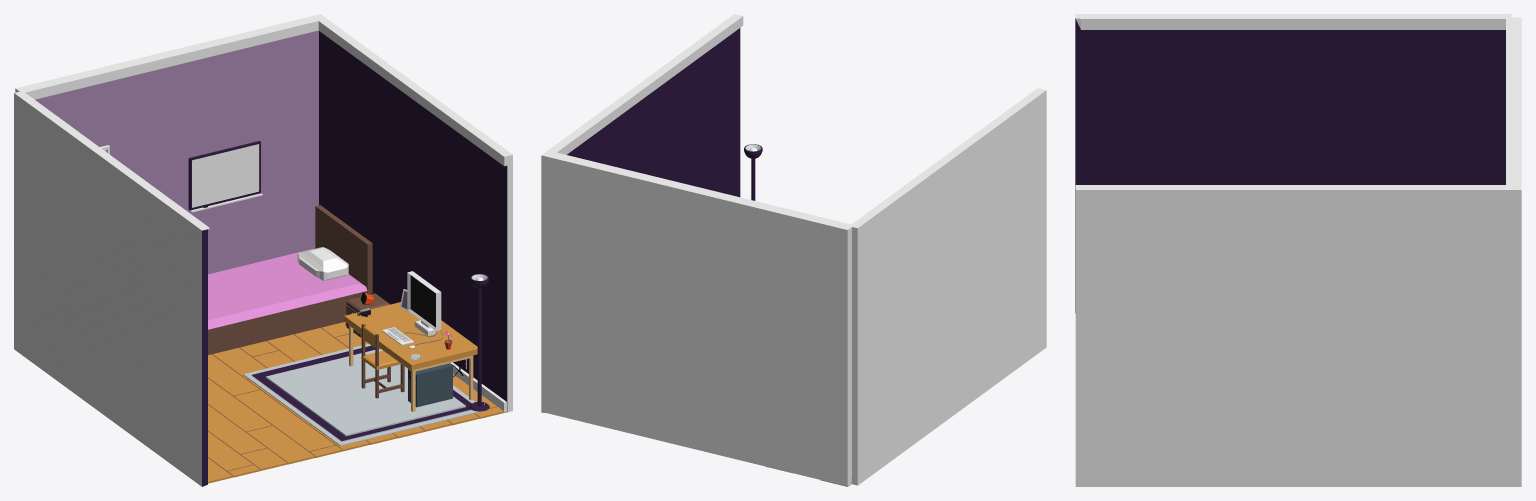
File: room2.glb
The picture shows the model from 3 angles, left to right: view 1: azimuth 30°, elevation 25°; view 2: azimuth 150°, elevation 25°; view 3: azimuth 270°, elevation 25°; orthographic projection. The views are drawn at different scales.
Parts seen in each view (by area): view 1: Node; view 2: Node; view 3: Node.
Boxes of the visible parts, x1,y1,x2,y2 form: Node: [14, 14, 512, 486]; Node: [541, 14, 1046, 486]; Node: [1075, 14, 1521, 486].
Size of the model in its own units: 3.77 by 2.97 by 4.04.
